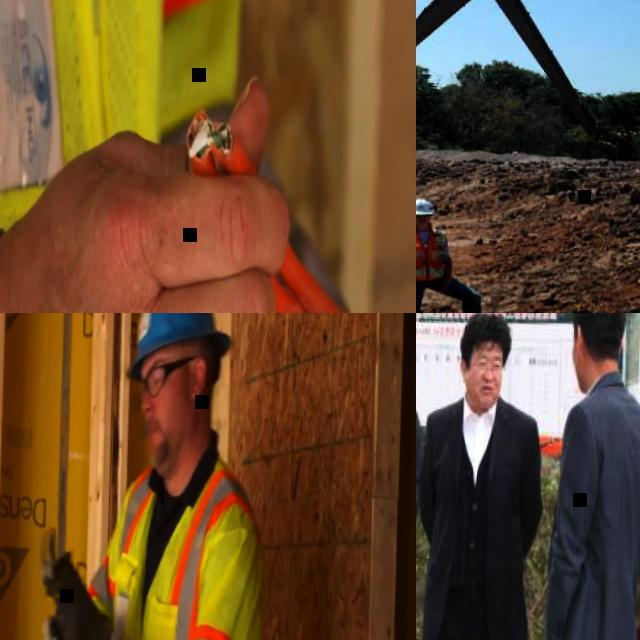helmet: (124, 313, 234, 384), (416, 197, 434, 214)
vest: (0, 0, 241, 245), (78, 445, 266, 640), (416, 226, 449, 280)
